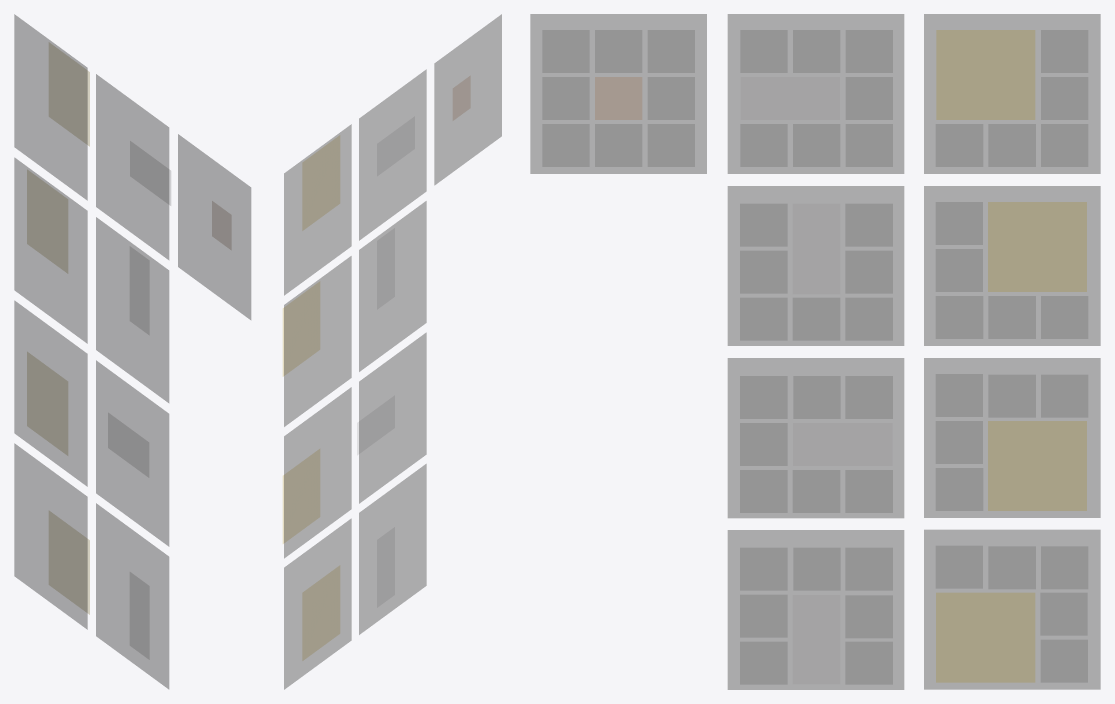
Rendered from rental_land_options.gltf.
3 renders of one model, left to right at view 1: azimuth 30°, elevation 25°; view 2: azimuth 150°, elevation 25°; view 3: azimuth 270°, elevation 25°, orthographic. The views are drawn at different scales.
Parts seen in each view (by area): view 1: 1x1BgBorder.019, 1x1BgBorder.020, 1x1BgBorder.021, 1x1BgBorder.018, 2x1_bg.001, 2x1_bg.002, 1x1BgBorder.001, 2x1_bg01, 2x1_bg, 22LandTile.006, 22LandTile.003, 22LandTile.004 (+6 smaller); view 2: 1x1BgBorder.018, 1x1BgBorder.020, 2x1_bg01, 1x1BgBorder.019, 1x1BgBorder.021, 1x1BgBorder.001, 2x1_bg, 2x1_bg.001, 2x1_bg.002, 22LandTile.005, 22LandTile.003, 22LandTile.004 (+6 smaller); view 3: 1x1BgBorder.020, 1x1BgBorder.018, 1x1BgBorder.019, 1x1BgBorder.021, 2x1_bg01, 2x1_bg, 2x1_bg.001, 2x1_bg.002, 1x1BgBorder.001, 22LandTile.003, 22LandTile.004, 22LandTile.005 (+62 smaller).
Boxes of the visible parts, x1,y1,x2,y2 form: 1x1BgBorder.019: (14,158,87,343); 1x1BgBorder.020: (14,301,87,486); 1x1BgBorder.021: (14,443,87,629); 1x1BgBorder.018: (14,14,87,200); 2x1_bg.001: (96,360,168,546); 2x1_bg.002: (96,503,168,688); 1x1BgBorder.001: (178,134,250,319); 2x1_bg01: (96,74,168,259); 2x1_bg: (96,217,168,402); 22LandTile.006: (49,511,89,614); 22LandTile.003: (49,43,89,145); 22LandTile.004: (27,170,67,272); 1x1BgBorder.018: (284,124,351,295); 1x1BgBorder.020: (284,387,351,558); 2x1_bg01: (359,69,426,240); 1x1BgBorder.019: (284,256,351,426); 1x1BgBorder.021: (284,519,351,689); 1x1BgBorder.001: (434,14,501,184); 2x1_bg: (359,201,426,371); 2x1_bg.001: (359,333,426,503); 2x1_bg.002: (359,464,426,634); 22LandTile.005: (283,449,319,543); 22LandTile.003: (303,136,339,229); 22LandTile.004: (283,282,319,376); 1x1BgBorder.020: (924,358,1100,517); 1x1BgBorder.018: (924,14,1100,173); 1x1BgBorder.019: (924,186,1100,345); 1x1BgBorder.021: (924,530,1100,689); 2x1_bg01: (728,14,903,173); 2x1_bg: (728,186,903,345); 2x1_bg.001: (728,358,903,517); 2x1_bg.002: (728,530,903,689); 1x1BgBorder.001: (530,14,706,173); 22LandTile.003: (936,30,1034,119); 22LandTile.004: (988,202,1086,291); 22LandTile.005: (988,421,1086,510).
Size of what is drawn, in the model's own units: 0.00784 by 0.586 by 0.4479.
2 materials, 1 textured.
